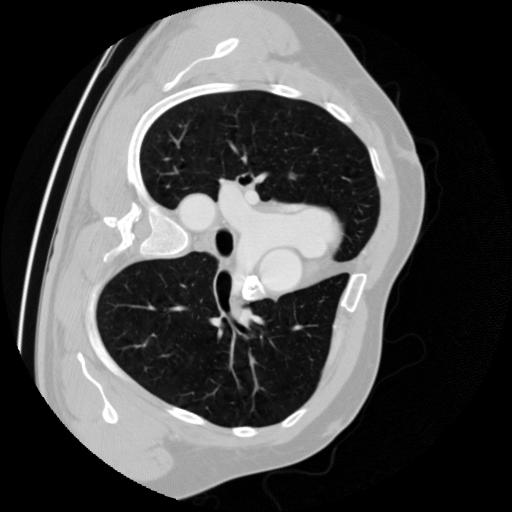nodule: (286, 170, 301, 185)
